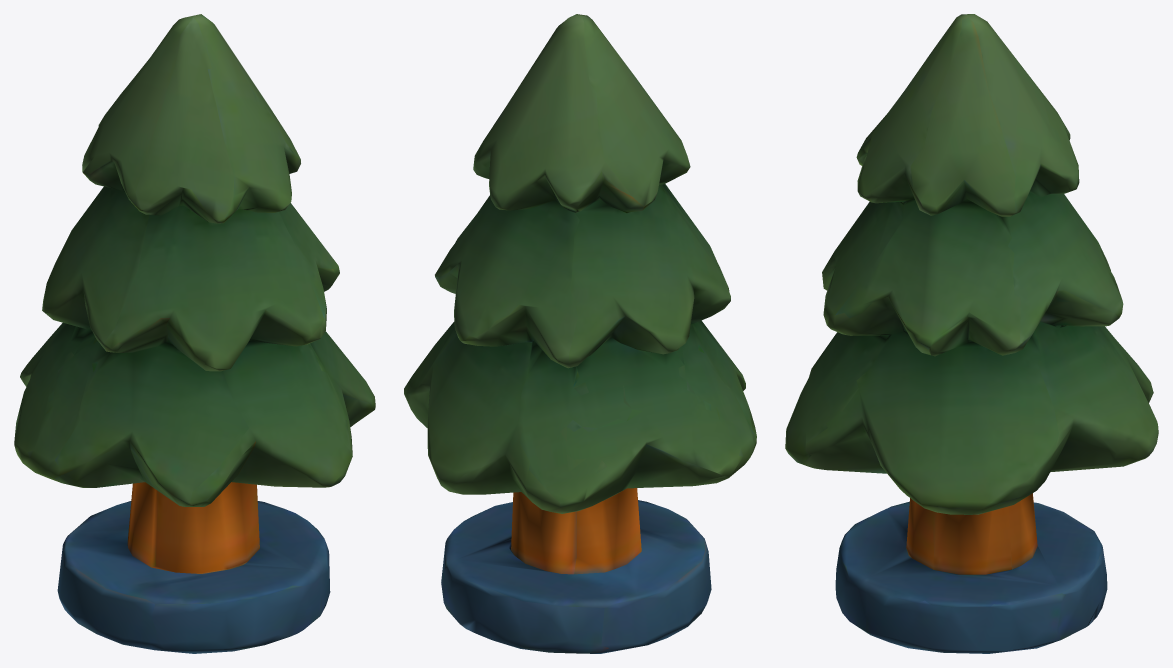
Rendered from tree-conifer.lod.glb.
The picture shows the model from 3 angles, left to right: view 1: azimuth 30°, elevation 25°; view 2: azimuth 150°, elevation 25°; view 3: azimuth 270°, elevation 25°; orthographic projection.
Visible parts, largest first — view 1: textured_mesh.obj; view 2: textured_mesh.obj; view 3: textured_mesh.obj.
Boxes of the visible parts, x1=… form: textured_mesh.obj: x1=14, y1=14, x2=375, y2=653; textured_mesh.obj: x1=404, y1=14, x2=756, y2=653; textured_mesh.obj: x1=785, y1=14, x2=1158, y2=653.
Size of the model in its own units: 0.5864 by 0.9986 by 0.5788.
Materials: 1 (1 with a texture image).
